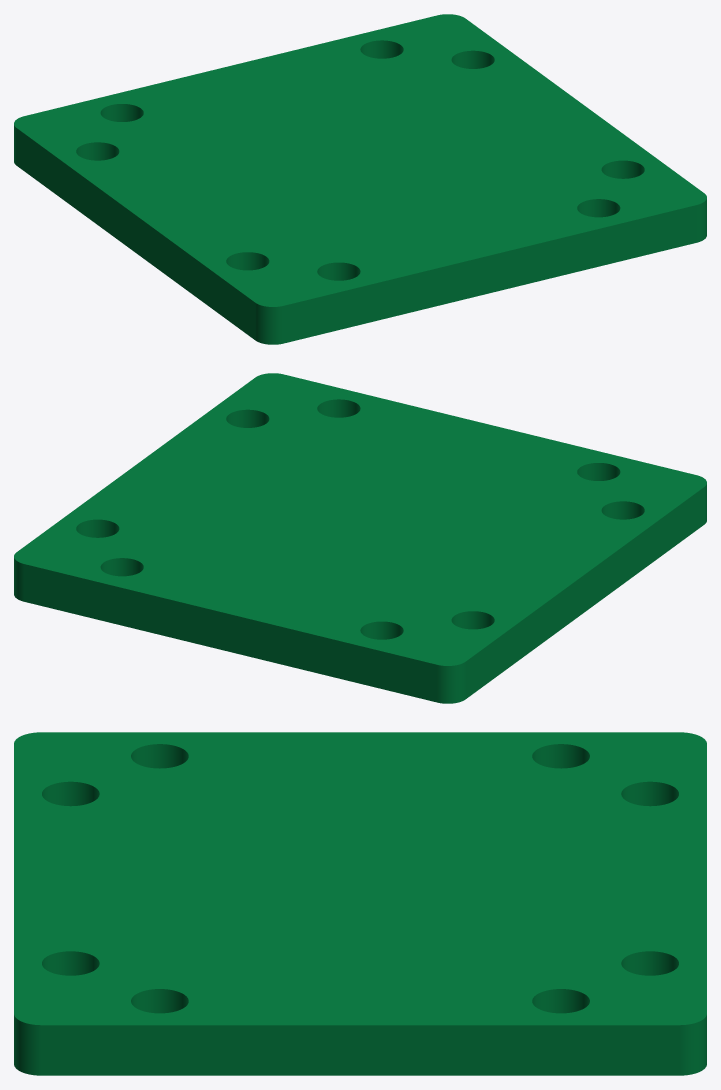
The model's file is V5_Outer Cover Top.obj.
The picture shows the model from 3 angles, top to bottom: view 1: azimuth 30°, elevation 25°; view 2: azimuth 150°, elevation 25°; view 3: azimuth 270°, elevation 25°; orthographic projection. The views are drawn at different scales.
Parts seen in each view (by area): view 1: Solid1:53; view 2: Solid1:53; view 3: Solid1:53.
Boxes of the visible parts, box(x1,y1,x2,y2) form: Solid1:53: box(14, 14, 706, 344); Solid1:53: box(14, 373, 706, 703); Solid1:53: box(14, 732, 706, 1075).
Size of the model in its own units: 49.75 by 4 by 49.75.
